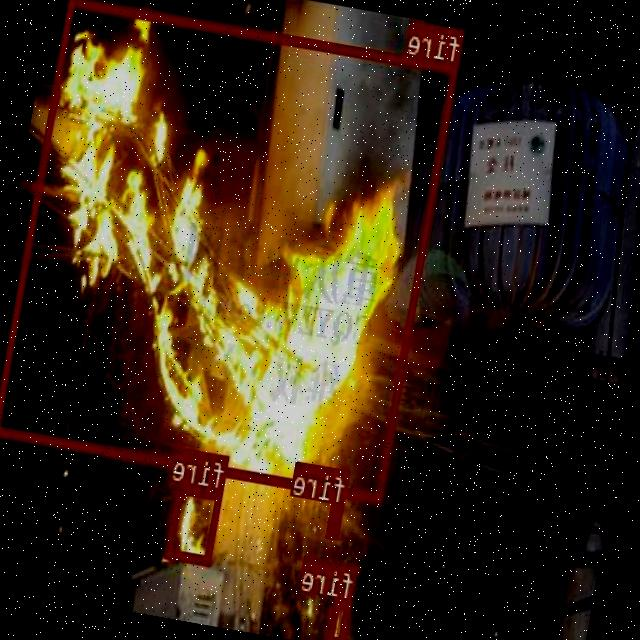fire: (0, 0, 459, 503), (167, 481, 224, 564), (328, 596, 353, 640), (326, 500, 345, 538)
